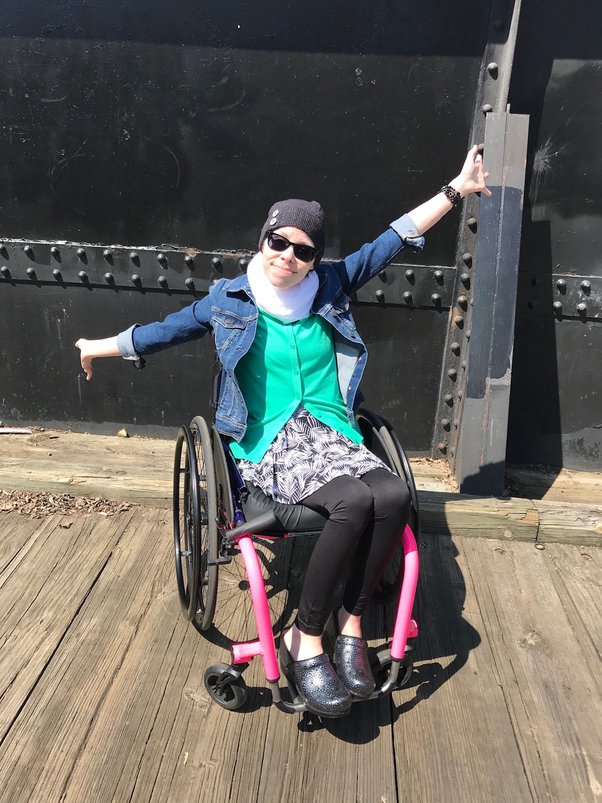wheelchair: (74, 143, 492, 714)
